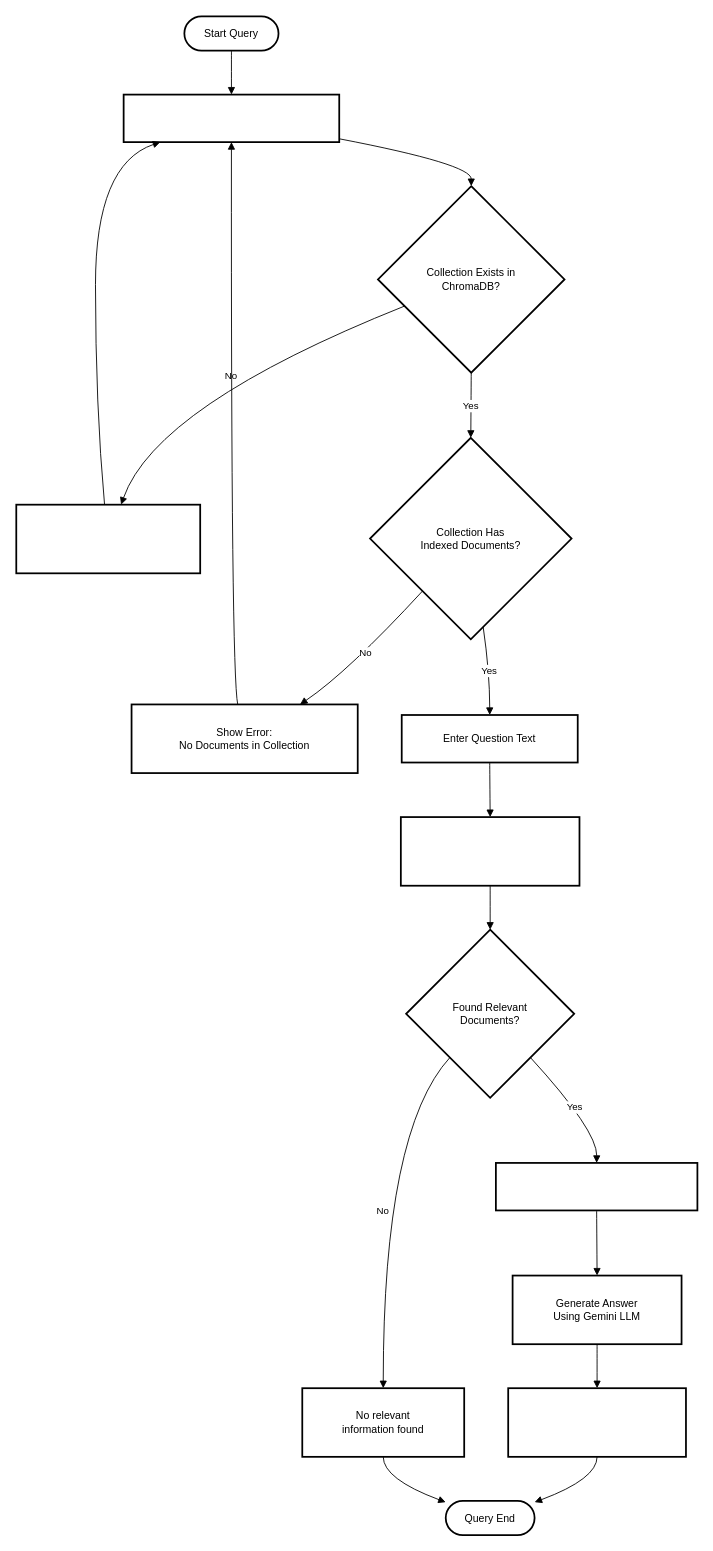
Image size: 713x1551. Some labels were removed from this diagram. Each missing label, with the centre of its shape:
Display Answer with Source Citations: [596,1422]
Format Context for LLM: [596,1186]
Search Vector Store Find Similar Chunks: [490,851]
Select Collection from List: [231,118]
Show Error: Collection Not Found: [108,538]
